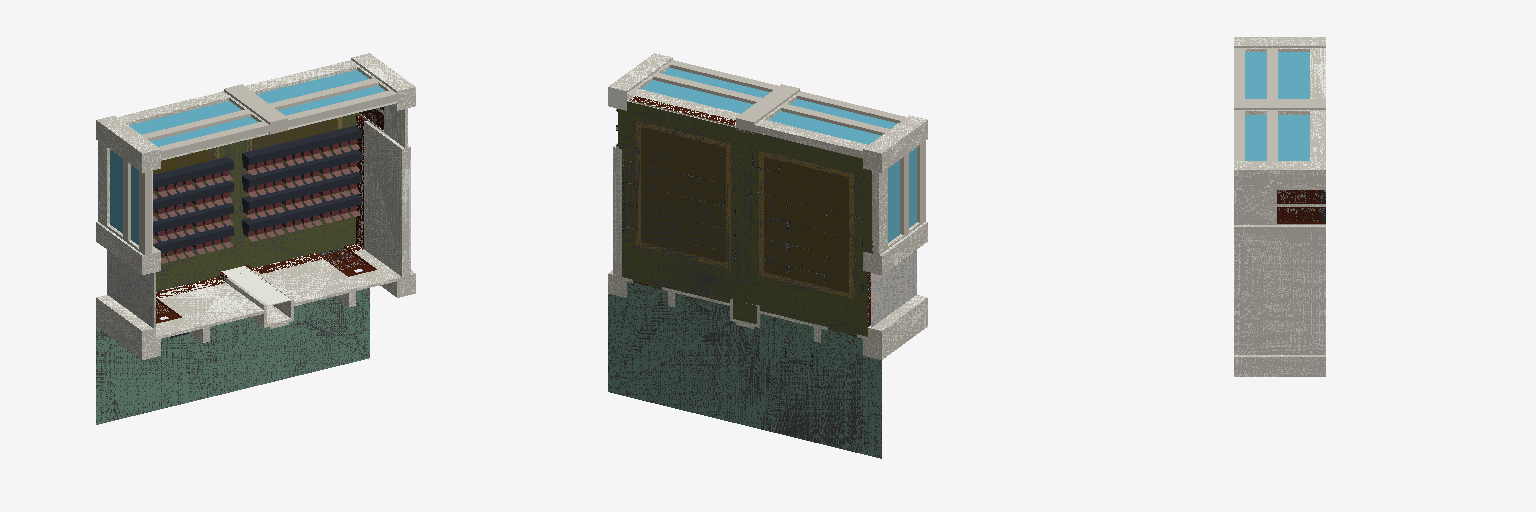
3 renders of one model, left to right at view 1: azimuth 30°, elevation 25°; view 2: azimuth 150°, elevation 25°; view 3: azimuth 270°, elevation 25°, orthographic.
Parts seen in each view (by area): view 1: Mesh99 Group50 Group36 Model, Mesh60 Group1 Model, Mesh15 Group7 Group6 Group1 Model, Mesh79 Group42 Group41 Group36 Model, Mesh80 Group41 Group36 Model, Mesh16 Group6 Group1 Model, Mesh59 Group1 Model, Mesh101 Group62 Group61 Group36 Model, Mesh27 Group17 Group1 Model, Mesh104 Group61 Group36 Model, Mesh25 Group16 Group1 Model, Mesh32 Group21 Group20 Group1 Model (+8 smaller); view 2: Mesh16 Group6 Group1 Model, Mesh80 Group41 Group36 Model, Mesh79 Group42 Group41 Group36 Model, Mesh15 Group7 Group6 Group1 Model, Mesh60 Group1 Model, Mesh59 Group1 Model, Mesh99 Group50 Group36 Model, Mesh104 Group61 Group36 Model, Mesh45 Group20 Group1 Model, Mesh25 Group16 Group1 Model, Mesh27 Group17 Group1 Model, Mesh28 Group17 Group1 Model (+4 smaller); view 3: Mesh99 Group50 Group36 Model, Mesh59 Group1 Model, Mesh25 Group16 Group1 Model, Mesh104 Group61 Group36 Model, Mesh92 Component_32_3 Group51 Group50 Group36 Model, Mesh98 Component_32_4 Group56 Group50 Group36 Model, Mesh28 Group17 Group1 Model, Mesh100 Group62 Group61 Group36 Model, Mesh101 Group62 Group61 Group36 Model, Mesh27 Group17 Group1 Model.
Part boxes in pixels (x1,y1,x2,y2): Mesh99 Group50 Group36 Model: (226,53,415,326); Mesh60 Group1 Model: (96,222,293,359); Mesh15 Group7 Group6 Group1 Model: (96,321,232,424); Mesh79 Group42 Group41 Group36 Model: (233,288,369,391); Mesh80 Group41 Group36 Model: (225,113,358,270); Mesh16 Group6 Group1 Model: (153,143,244,291); Mesh59 Group1 Model: (96,91,246,172); Mesh101 Group62 Group61 Group36 Model: (286,90,396,127); Mesh27 Group17 Group1 Model: (159,121,269,158); Mesh104 Group61 Group36 Model: (245,60,390,93); Mesh25 Group16 Group1 Model: (224,84,287,134); Mesh32 Group21 Group20 Group1 Model: (139,171,151,254); Mesh16 Group6 Group1 Model: (733,130,872,336); Mesh80 Group41 Group36 Model: (618,101,756,323); Mesh79 Group42 Group41 Group36 Model: (608,281,744,424); Mesh15 Group7 Group6 Group1 Model: (745,314,881,458); Mesh60 Group1 Model: (730,222,927,359); Mesh59 Group1 Model: (754,107,927,172); Mesh99 Group50 Group36 Model: (608,53,759,326); Mesh104 Group61 Group36 Model: (627,64,739,127); Mesh45 Group20 Group1 Model: (872,169,887,254); Mesh25 Group16 Group1 Model: (736,84,799,133); Mesh27 Group17 Group1 Model: (796,91,905,122); Mesh28 Group17 Group1 Model: (779,103,889,135); Mesh99 Group50 Group36 Model: (1234,161,1325,376); Mesh59 Group1 Model: (1234,37,1325,98); Mesh25 Group16 Group1 Model: (1234,99,1325,109); Mesh104 Group61 Group36 Model: (1278,110,1325,160); Mesh92 Component_32_3 Group51 Group50 Group36 Model: (1278,208,1325,221); Mesh98 Component_32_4 Group56 Group50 Group36 Model: (1278,190,1325,202); Mesh28 Group17 Group1 Model: (1267,48,1277,98); Mesh100 Group62 Group61 Group36 Model: (1267,110,1277,160); Mesh101 Group62 Group61 Group36 Model: (1234,110,1244,160); Mesh27 Group17 Group1 Model: (1234,48,1244,98).
Size of the model in its own units: 58.09 by 61.92 by 17.02.